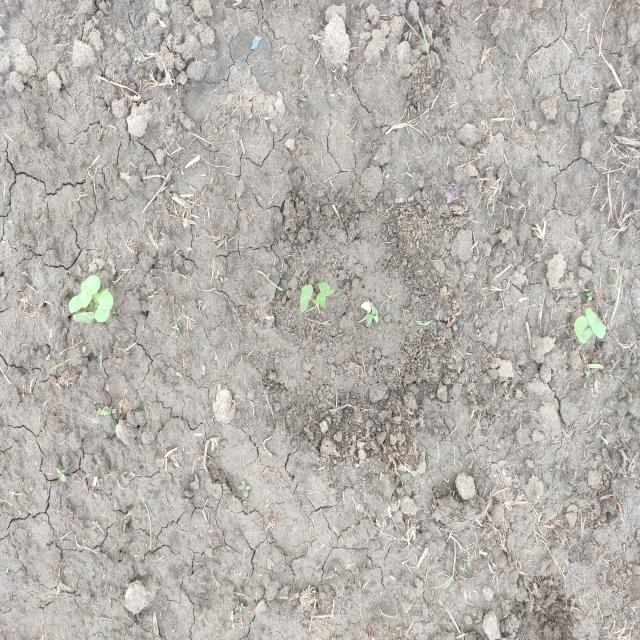seedling: (585, 308, 606, 339), (80, 276, 100, 308), (95, 290, 114, 323), (300, 284, 313, 312), (574, 322, 587, 343), (68, 294, 82, 313), (73, 312, 95, 323), (319, 282, 334, 296), (312, 293, 326, 307), (575, 316, 587, 330), (584, 328, 593, 339)
